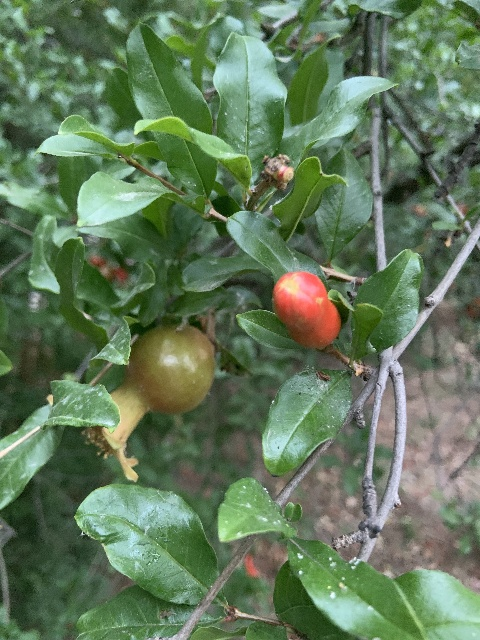bud: (273, 270, 340, 350)
early-fruit: (51, 323, 215, 483)
